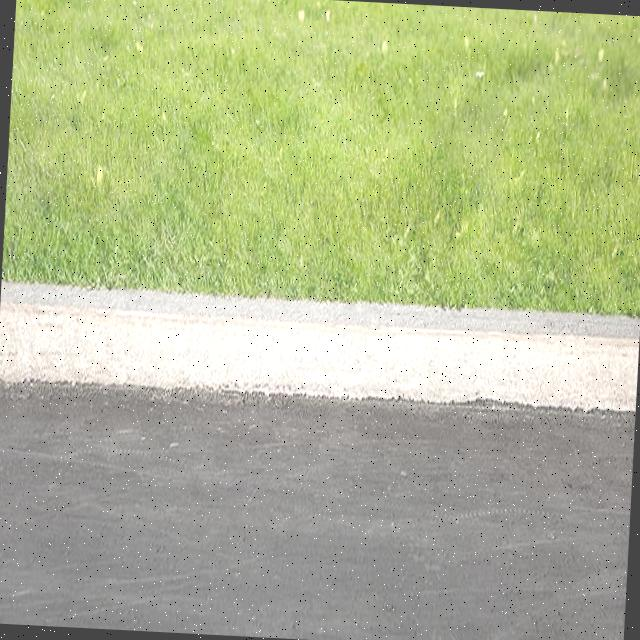curb: (1, 267, 640, 429)
